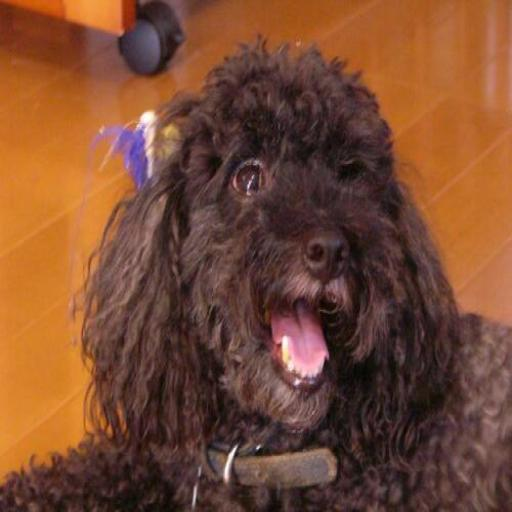dog_face: (82, 58, 428, 439)
